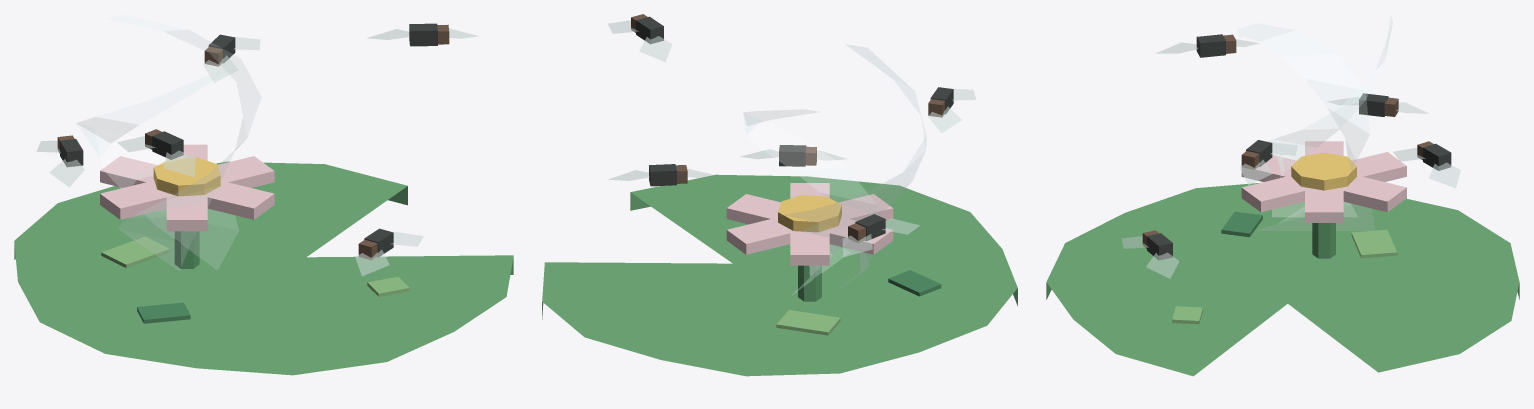
File: pond-details.glb
3 renders of one model, left to right at view 1: azimuth 30°, elevation 25°; view 2: azimuth 150°, elevation 25°; view 3: azimuth 270°, elevation 25°, orthographic. The views are drawn at different scales.
Parts seen in each view (by area): view 1: Lily_Pad, Low_Poly_Mist_Wisp, Flower_Core, Flower_Petal_06, Flower_Petal_04, Flower_Petal_05, Flower_Petal_01, Flower_Petal_03, Pad_Light_Pixel_A, Flower_Stem, Pad_Dark_Pixel, Fly_04_Body (+8 smaller); view 2: Lily_Pad, Low_Poly_Mist_Wisp, Flower_Core, Flower_Petal_02, Flower_Petal_03, Flower_Petal_01, Pad_Light_Pixel_A, Flower_Petal_04, Flower_Petal_05, Flower_Stem, Pad_Dark_Pixel, Fly_02_Body (+7 smaller); view 3: Lily_Pad, Low_Poly_Mist_Wisp, Flower_Core, Flower_Petal_02, Flower_Petal_06, Flower_Petal_01, Flower_Petal_03, Pad_Light_Pixel_A, Flower_Petal_05, Flower_Stem, Pad_Dark_Pixel, Fly_04_Body (+8 smaller).
Boxes of the visible parts, x1=… form: Lily_Pad: x1=14, y1=161, x2=513, y2=375; Low_Poly_Mist_Wisp: x1=76, y1=14, x2=260, y2=270; Flower_Core: x1=153, y1=157, x2=220, y2=196; Flower_Petal_06: x1=207, y1=180, x2=274, y2=219; Flower_Petal_04: x1=100, y1=180, x2=166, y2=219; Flower_Petal_05: x1=166, y1=193, x2=207, y2=231; Flower_Petal_01: x1=217, y1=156, x2=274, y2=187; Flower_Petal_03: x1=100, y1=156, x2=157, y2=187; Pad_Light_Pixel_A: x1=101, y1=236, x2=170, y2=267; Flower_Stem: x1=174, y1=231, x2=199, y2=268; Pad_Dark_Pixel: x1=137, y1=302, x2=190, y2=323; Fly_04_Body: x1=152, y1=131, x2=183, y2=159; Lily_Pad: x1=542, y1=174, x2=1017, y2=376; Low_Poly_Mist_Wisp: x1=743, y1=44, x2=926, y2=293; Flower_Core: x1=778, y1=195, x2=841, y2=232; Flower_Petal_02: x1=726, y1=218, x2=792, y2=254; Flower_Petal_03: x1=790, y1=229, x2=829, y2=265; Flower_Petal_01: x1=726, y1=194, x2=780, y2=224; Pad_Light_Pixel_A: x1=776, y1=310, x2=840, y2=335; Flower_Petal_04: x1=828, y1=218, x2=893, y2=254; Flower_Petal_05: x1=838, y1=194, x2=893, y2=220; Flower_Stem: x1=798, y1=265, x2=821, y2=301; Pad_Dark_Pixel: x1=888, y1=270, x2=941, y2=296; Fly_02_Body: x1=649, y1=164, x2=676, y2=186; Lily_Pad: x1=1046, y1=182, x2=1519, y2=376; Low_Poly_Mist_Wisp: x1=1237, y1=15, x2=1392, y2=230; Flower_Core: x1=1291, y1=152, x2=1356, y2=190; Flower_Petal_02: x1=1335, y1=177, x2=1406, y2=212; Flower_Petal_06: x1=1241, y1=177, x2=1313, y2=212; Flower_Petal_01: x1=1305, y1=189, x2=1343, y2=222; Flower_Petal_03: x1=1352, y1=152, x2=1406, y2=181; Pad_Light_Pixel_A: x1=1351, y1=229, x2=1397, y2=258; Flower_Petal_05: x1=1241, y1=154, x2=1296, y2=181; Flower_Stem: x1=1312, y1=223, x2=1335, y2=258; Pad_Dark_Pixel: x1=1221, y1=211, x2=1262, y2=237; Fly_04_Body: x1=1196, y1=34, x2=1225, y2=57.
Size of the model in its own units: 1.02 by 0.5825 by 1.04.
